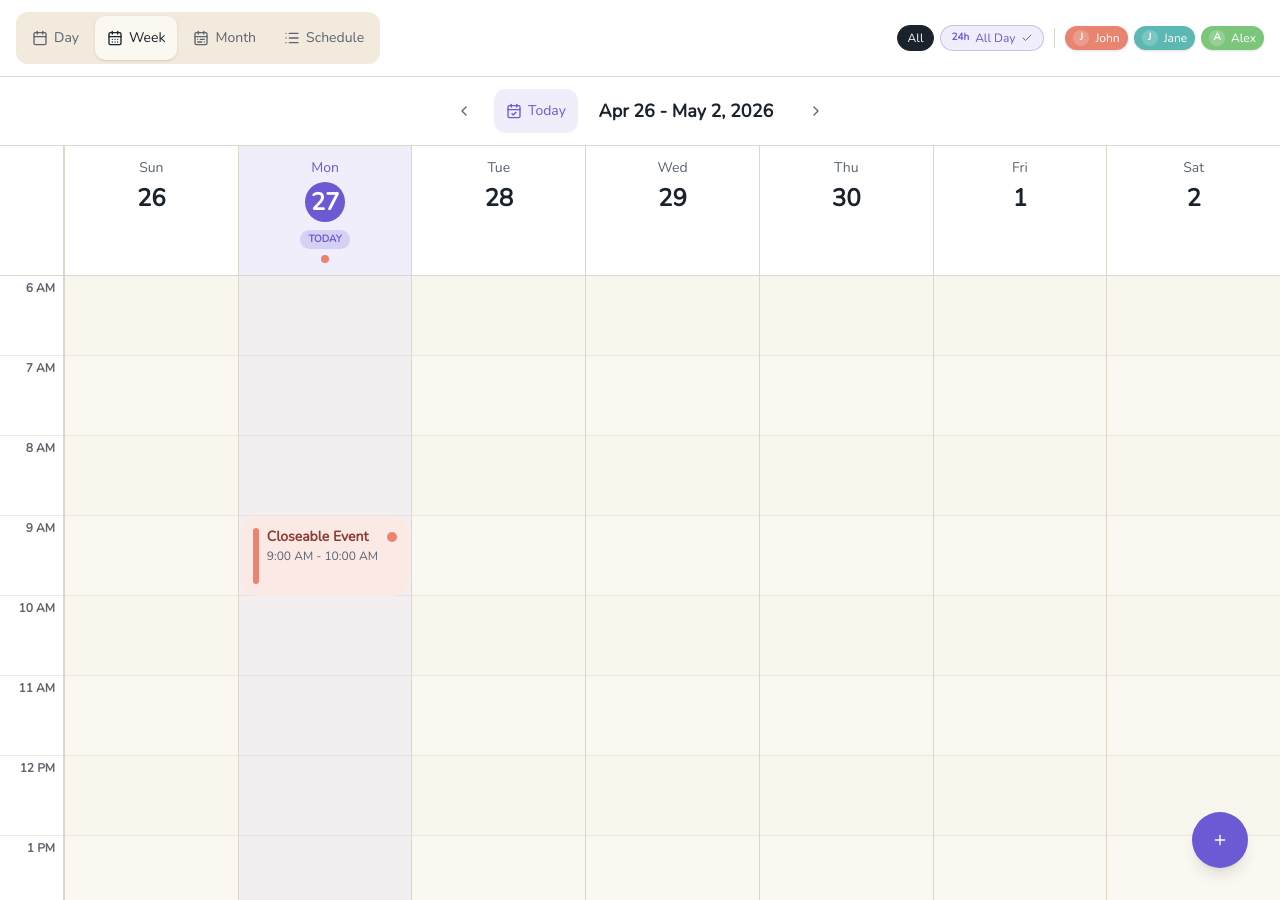
CalendarModule › Event Detail Modal › closes detail modal when close button clicked
Click the heading "Closeable Event" at (323, 537), box top-left (267, 528), bottom-right (379, 546)
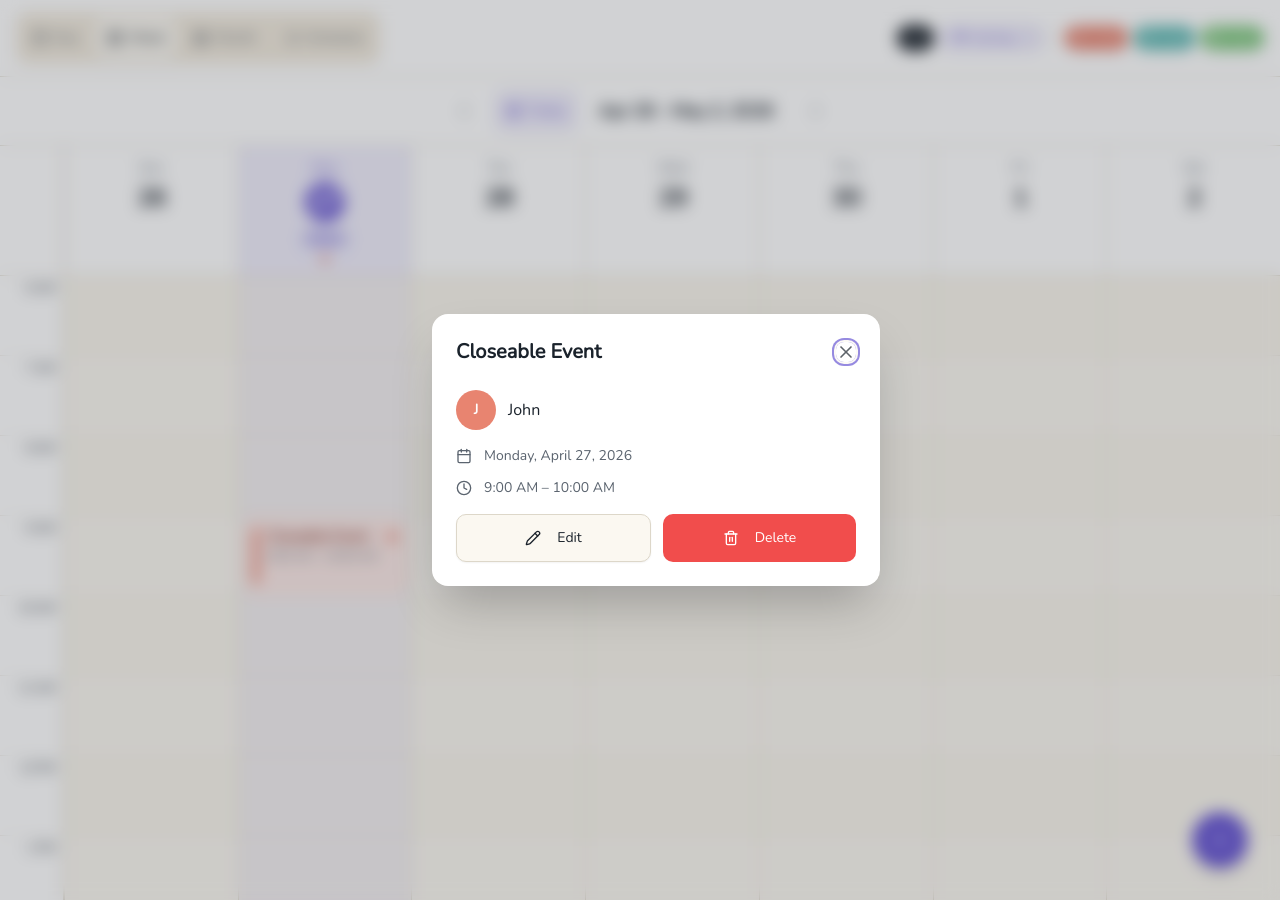
Expected: the dialog is shown, top-left (432, 314), bottom-right (880, 586)
Click the button named "close" at (846, 352), box top-left (836, 342), bottom-right (856, 362)
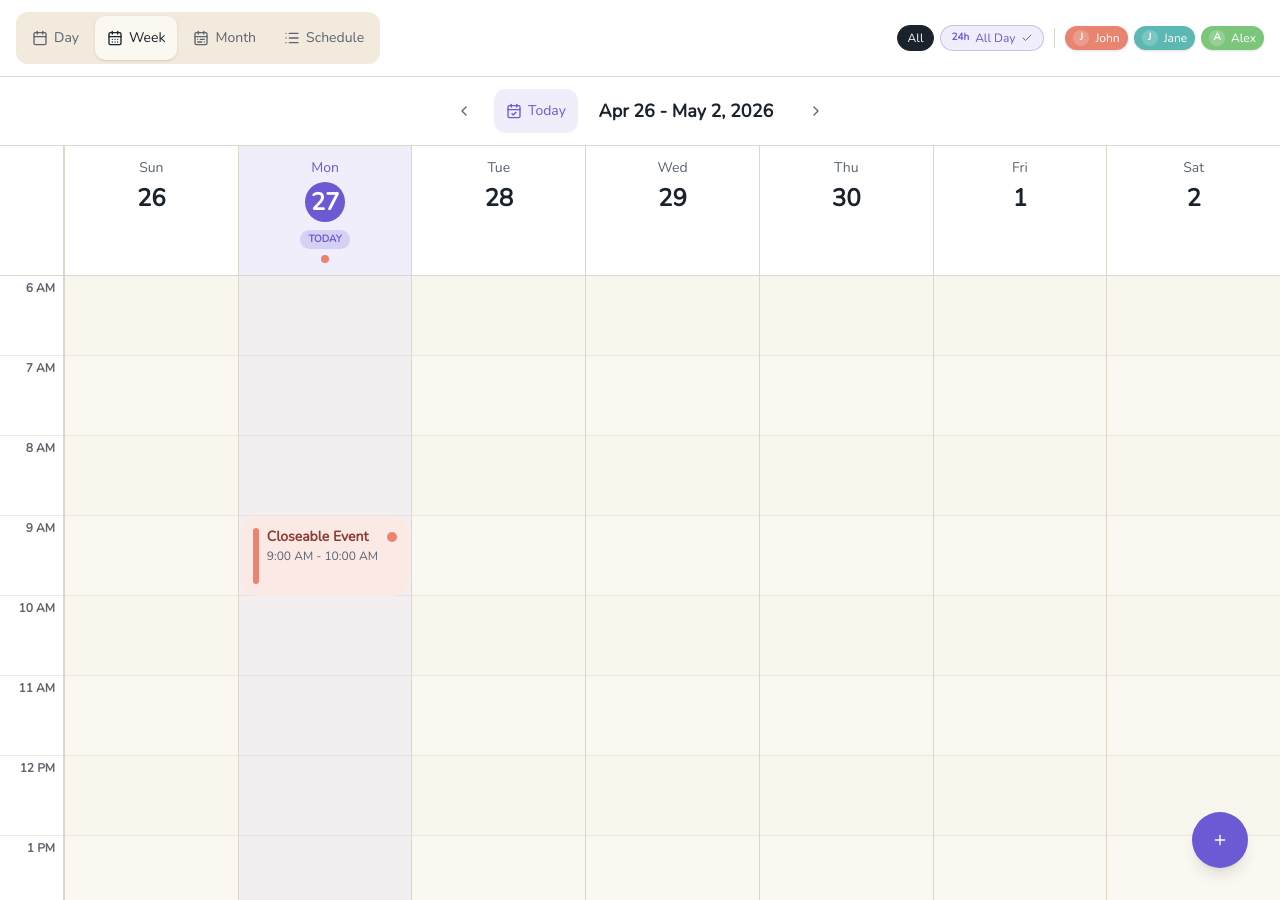
Expected: the dialog is gone
